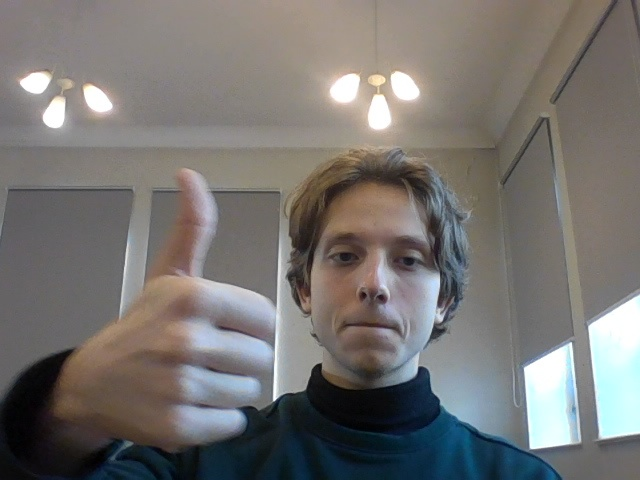thank you: (88, 158, 296, 451)
